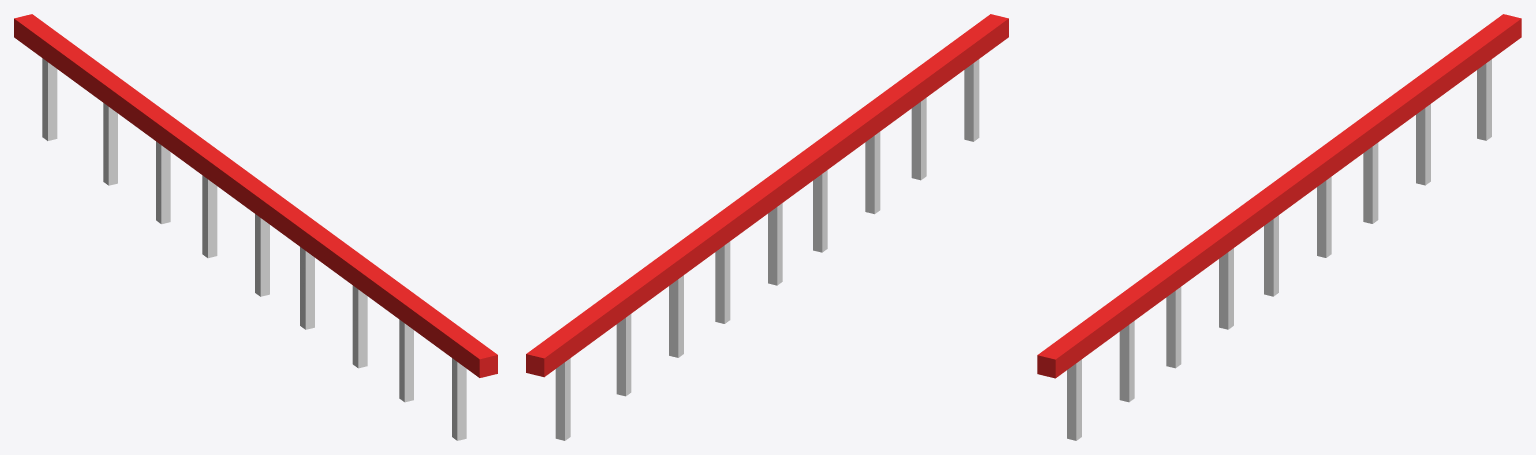
File: Railing 01.FBX
The picture shows the model from 3 angles, left to right: view 1: azimuth 30°, elevation 25°; view 2: azimuth 150°, elevation 25°; view 3: azimuth 330°, elevation 25°; orthographic projection.
Parts seen in each view (by area): view 1: Box001; view 2: Box001; view 3: Box001.
Part boxes in pixels (box(x1,y1,x2,y2)): Box001: box(14, 14, 497, 440); Box001: box(526, 14, 1008, 440); Box001: box(1037, 14, 1521, 440).
Bounding box in the file's own units: 0.7029 × 3.74 × 31.09.
